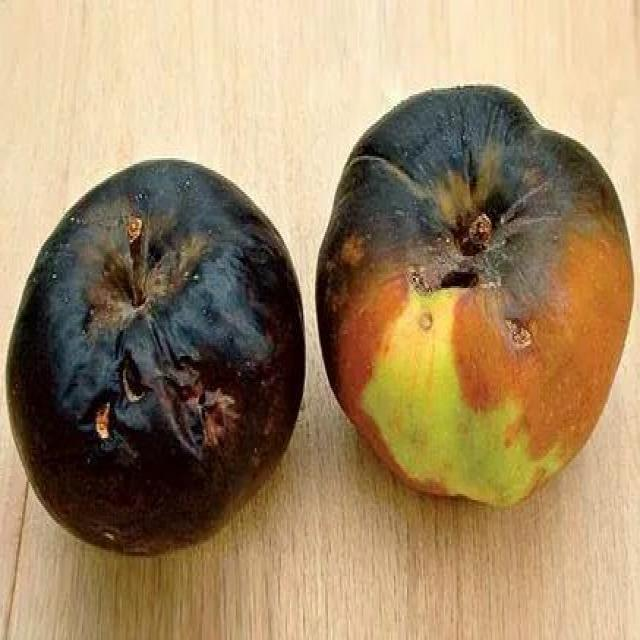Rotten: (327, 85, 623, 497), (31, 170, 296, 548)
